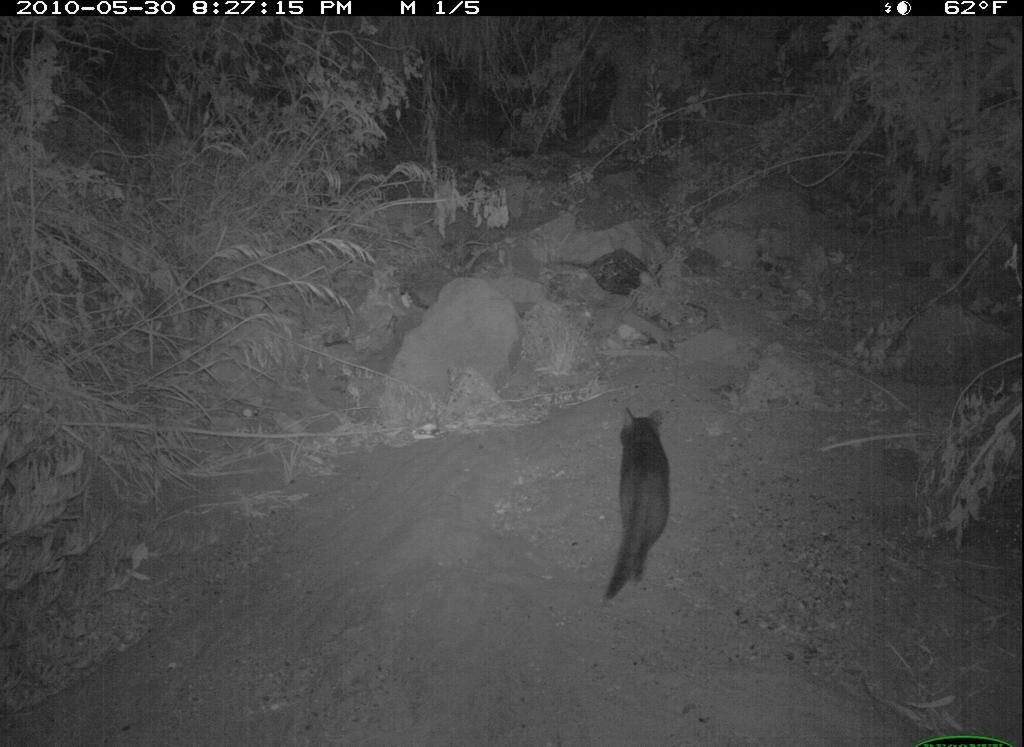cat: (598, 402, 679, 606)
